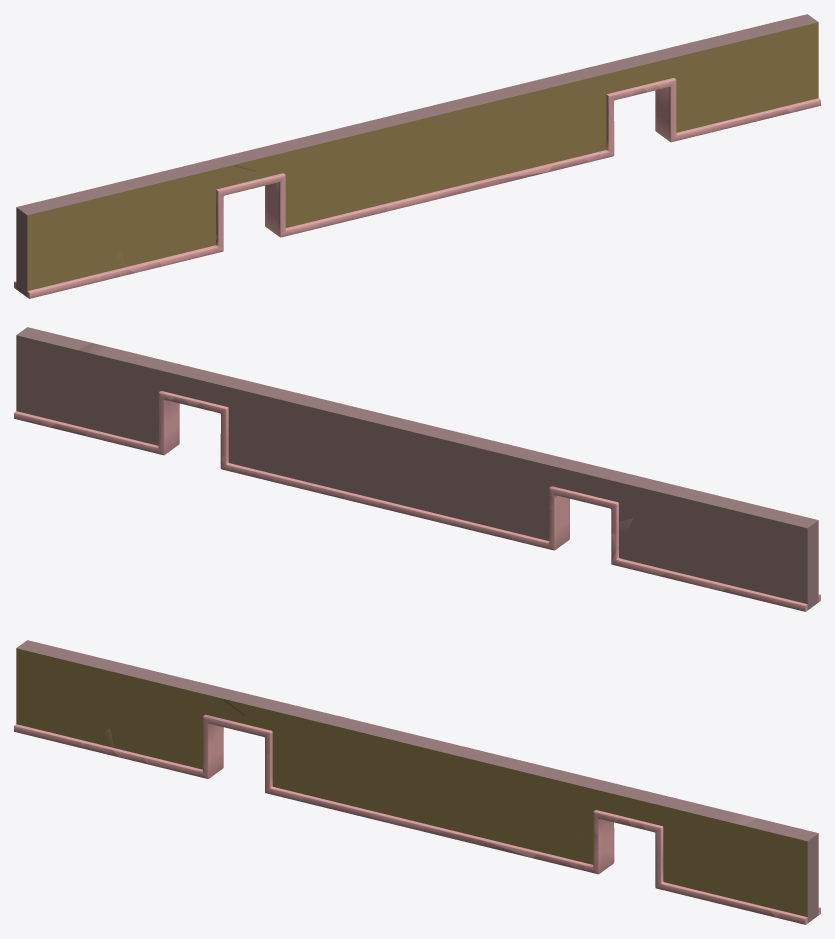
The model's file is ArcadeReading_Fractured.fbx.
3 renders of one model, top to bottom at view 1: azimuth 30°, elevation 25°; view 2: azimuth 150°, elevation 25°; view 3: azimuth 330°, elevation 25°, orthographic.
Visible parts, largest first — view 1: polySurface414, polySurface417, polySurface416, polySurface425, polySurface438, polySurface427, polySurface459, polySurface405, polySurface413, polySurface404, polySurface440, polySurface429 (+25 smaller); view 2: polySurface417, polySurface414, polySurface425, polySurface427, polySurface405, polySurface416, polySurface394, polySurface440, polySurface459, polySurface438, polySurface432, polySurface457 (+26 smaller); view 3: polySurface414, polySurface417, polySurface416, polySurface425, polySurface438, polySurface459, polySurface405, polySurface413, polySurface404, polySurface435, polySurface429, polySurface441 (+25 smaller).
Part boxes in pixels (left/top/right/bottom): polySurface414: left=16, top=187, right=115, bottom=261; polySurface417: left=655, top=34, right=740, bottom=120; polySurface416: left=140, top=192, right=222, bottom=266; polySurface425: left=727, top=29, right=804, bottom=112; polySurface438: left=548, top=66, right=612, bottom=133; polySurface427: left=14, top=239, right=98, bottom=298; polySurface459: left=82, top=184, right=141, bottom=279; polySurface405: left=307, top=119, right=386, bottom=171; polySurface413: left=482, top=90, right=542, bottom=166; polySurface404: left=309, top=155, right=379, bottom=207; polySurface440: left=265, top=178, right=321, bottom=237; polySurface429: left=496, top=119, right=566, bottom=178; polySurface417: left=92, top=347, right=179, bottom=431; polySurface414: left=724, top=498, right=818, bottom=565; polySurface425: left=31, top=343, right=108, bottom=427; polySurface427: left=732, top=560, right=820, bottom=611; polySurface405: left=448, top=432, right=524, bottom=495; polySurface416: left=611, top=511, right=691, bottom=576; polySurface394: left=638, top=480, right=720, bottom=532; polySurface440: left=510, top=489, right=569, bottom=550; polySurface459: left=691, top=496, right=752, bottom=581; polySurface438: left=230, top=379, right=290, bottom=449; polySurface432: left=276, top=391, right=328, bottom=445; polySurface457: left=662, top=534, right=734, bottom=591; polySurface414: left=16, top=640, right=110, bottom=720; polySurface417: left=655, top=800, right=737, bottom=887; polySurface416: left=129, top=701, right=222, bottom=778; polySurface425: left=726, top=813, right=793, bottom=918; polySurface438: left=543, top=770, right=604, bottom=831; polySurface459: left=71, top=660, right=130, bottom=745; polySurface405: left=309, top=711, right=385, bottom=774; polySurface413: left=470, top=758, right=531, bottom=828; polySurface404: left=298, top=731, right=367, bottom=796; polySurface435: left=185, top=700, right=245, bottom=778; polySurface429: left=484, top=805, right=555, bottom=857; polySurface441: left=423, top=793, right=485, bottom=845.
Size of the model in its own units: 40.91 by 4.06 by 1.4.
